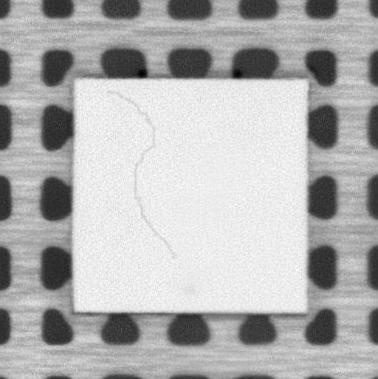DIE_CRACK: (109, 90, 177, 259)
